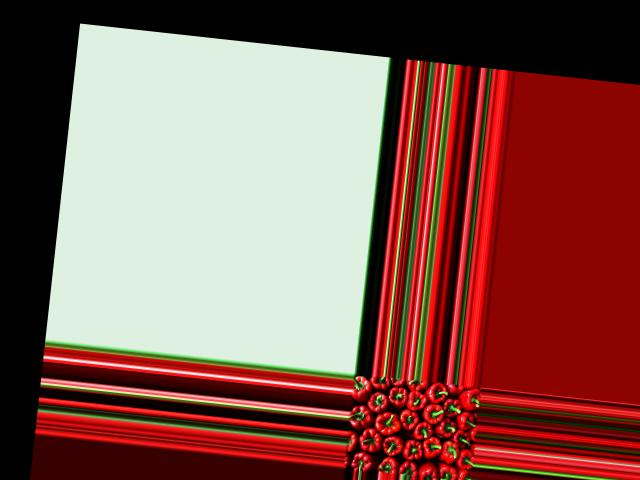bell_pepper: (458, 387, 480, 409)
